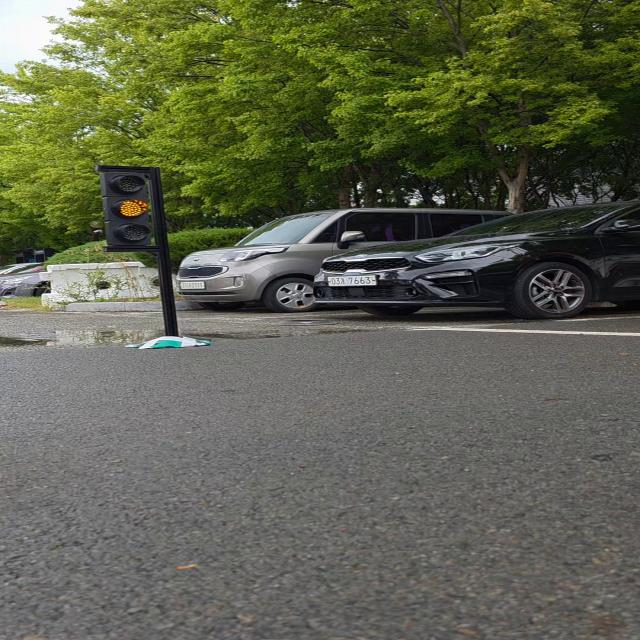yellow: (98, 166, 161, 252)
